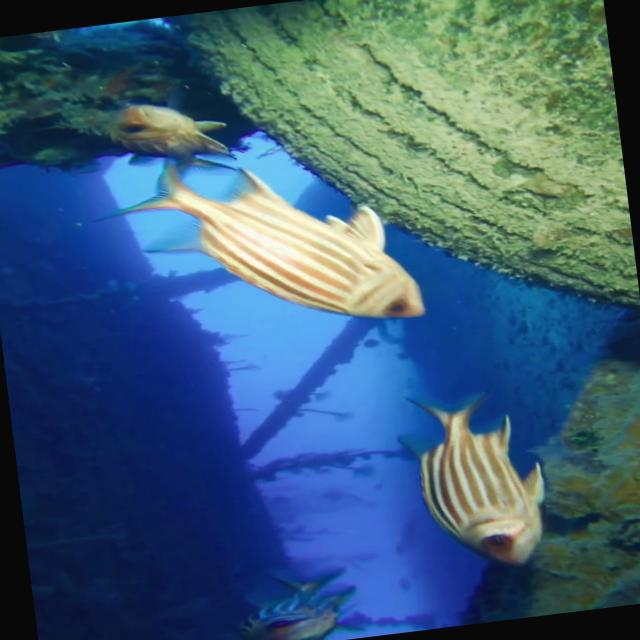Asker Baligi: (82, 127, 428, 356), (392, 380, 556, 579)
